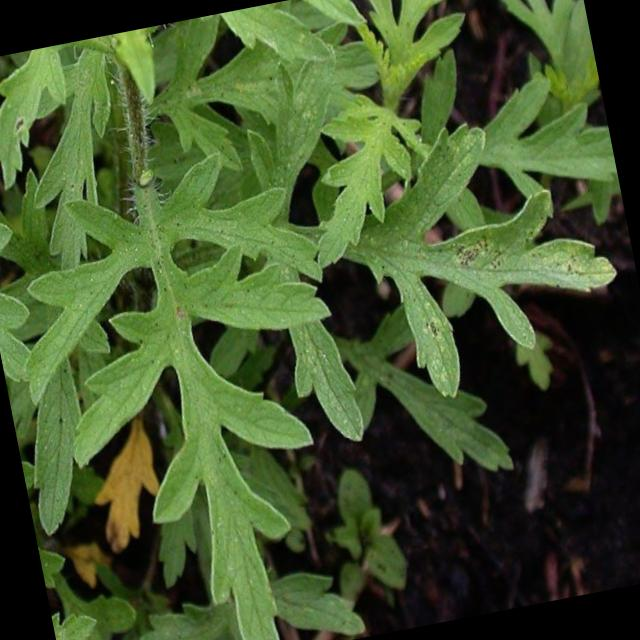ambrosia: (12, 129, 387, 640), (284, 52, 618, 410)
